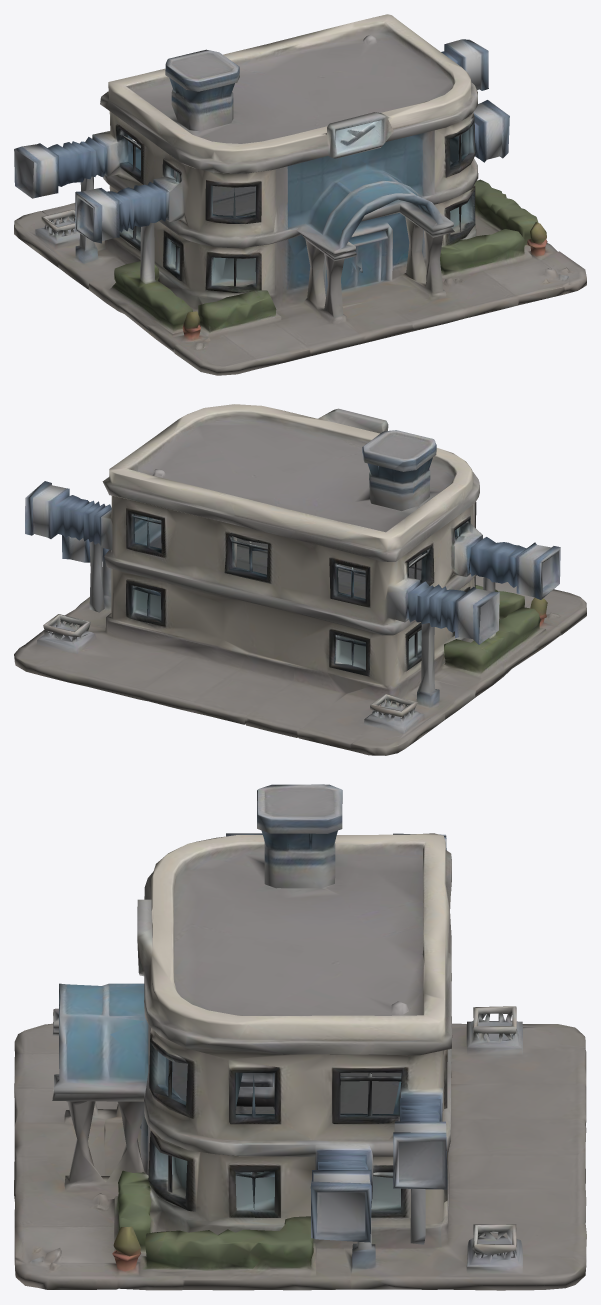
File: journey_terminal.glb
3 views of the same model, one above another, from view 1: azimuth 30°, elevation 25°; view 2: azimuth 150°, elevation 25°; view 3: azimuth 270°, elevation 25° (orthographic). The views are drawn at different scales.
Visible parts, largest first — view 1: tripo_node_d7815247-4543-4cc5-89a4-377a0697cb7f; view 2: tripo_node_d7815247-4543-4cc5-89a4-377a0697cb7f; view 3: tripo_node_d7815247-4543-4cc5-89a4-377a0697cb7f.
Part boxes in pixels (x1,y1,x2,y2): tripo_node_d7815247-4543-4cc5-89a4-377a0697cb7f: (14, 14, 586, 375); tripo_node_d7815247-4543-4cc5-89a4-377a0697cb7f: (14, 404, 586, 755); tripo_node_d7815247-4543-4cc5-89a4-377a0697cb7f: (14, 784, 586, 1290).
Size of the model in its own units: 1 by 0.454 by 0.7966.
1 material, 1 textured.
